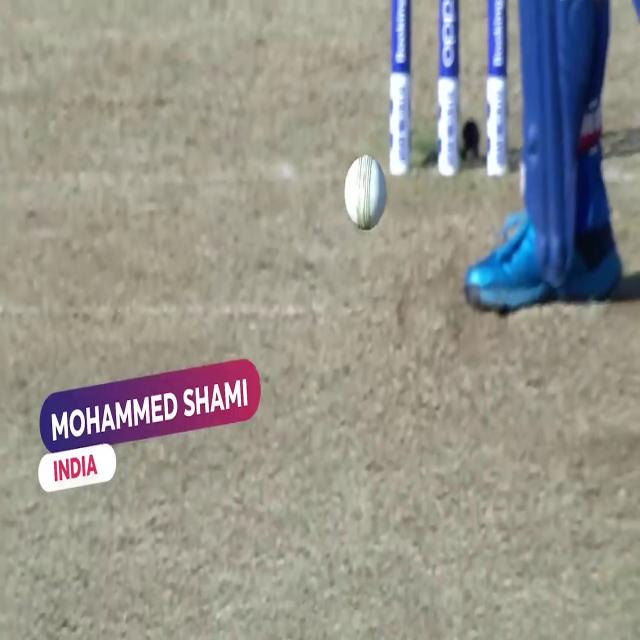ball: (342, 151, 388, 234)
